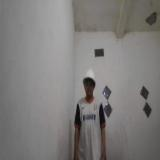Helmet: (83, 66, 96, 90)
